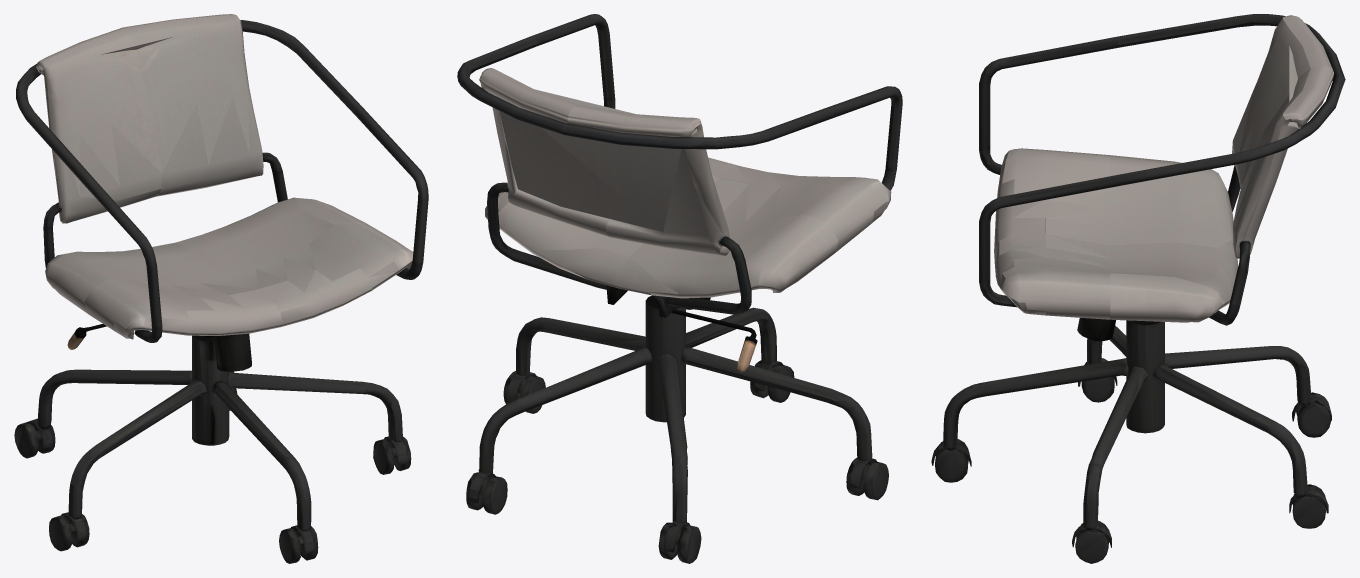
File: office_chair.glb
3 renders of one model, left to right at view 1: azimuth 30°, elevation 25°; view 2: azimuth 150°, elevation 25°; view 3: azimuth 270°, elevation 25°, orthographic. The views are drawn at different scales.
Parts seen in each view (by area): view 1: tripo_node_ffd6befa-bf1f-496b-9890-26d15916f234; view 2: tripo_node_ffd6befa-bf1f-496b-9890-26d15916f234; view 3: tripo_node_ffd6befa-bf1f-496b-9890-26d15916f234.
Boxes of the visible parts, x1=… form: tripo_node_ffd6befa-bf1f-496b-9890-26d15916f234: x1=14, y1=14, x2=428, y2=563; tripo_node_ffd6befa-bf1f-496b-9890-26d15916f234: x1=457, y1=14, x2=902, y2=563; tripo_node_ffd6befa-bf1f-496b-9890-26d15916f234: x1=931, y1=14, x2=1345, y2=563.
Size of the model in its own units: 0.8119 by 0.9 by 0.8155.
Materials: 1 (1 with a texture image).
